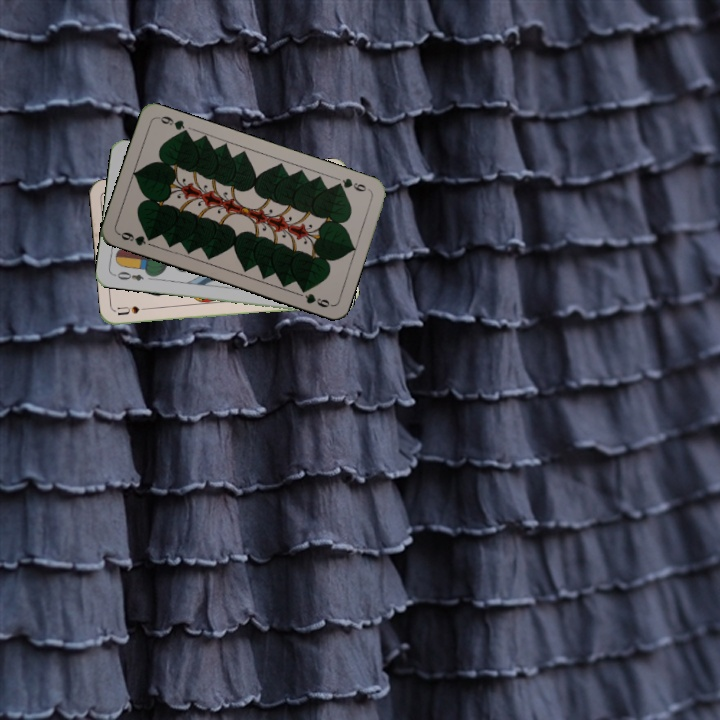EO: (110, 268, 146, 284)
G9: (115, 228, 156, 248), (331, 174, 372, 194)
SU: (114, 302, 155, 318)
